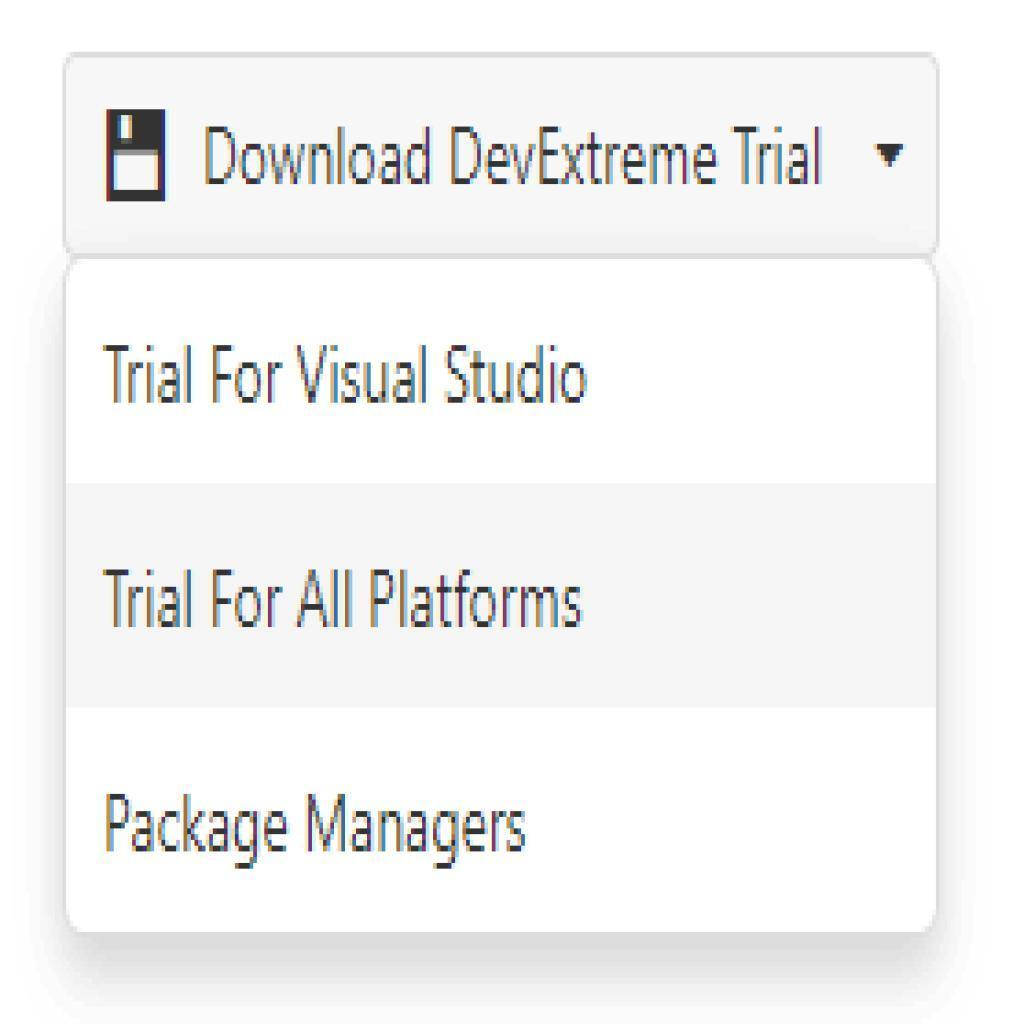dropdown: (66, 54, 935, 258)
icon: (99, 101, 178, 209)
label: (62, 484, 941, 712)
